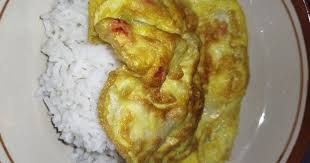Nasi putih: (41, 2, 116, 153)
Telur dadar: (89, 3, 252, 163)
